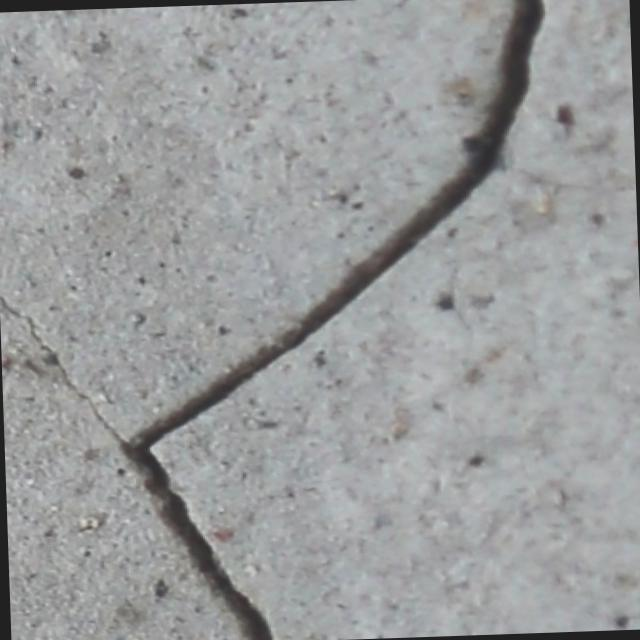crack: (105, 0, 572, 640), (0, 286, 121, 453)
